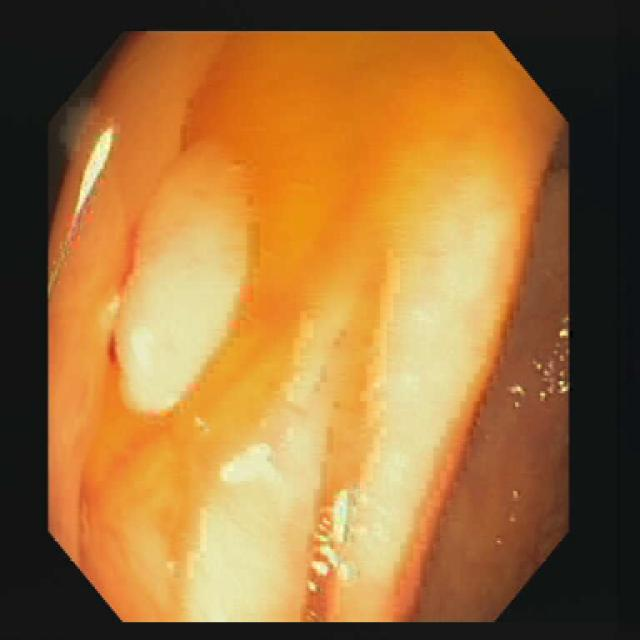tumor: (113, 164, 248, 411)
